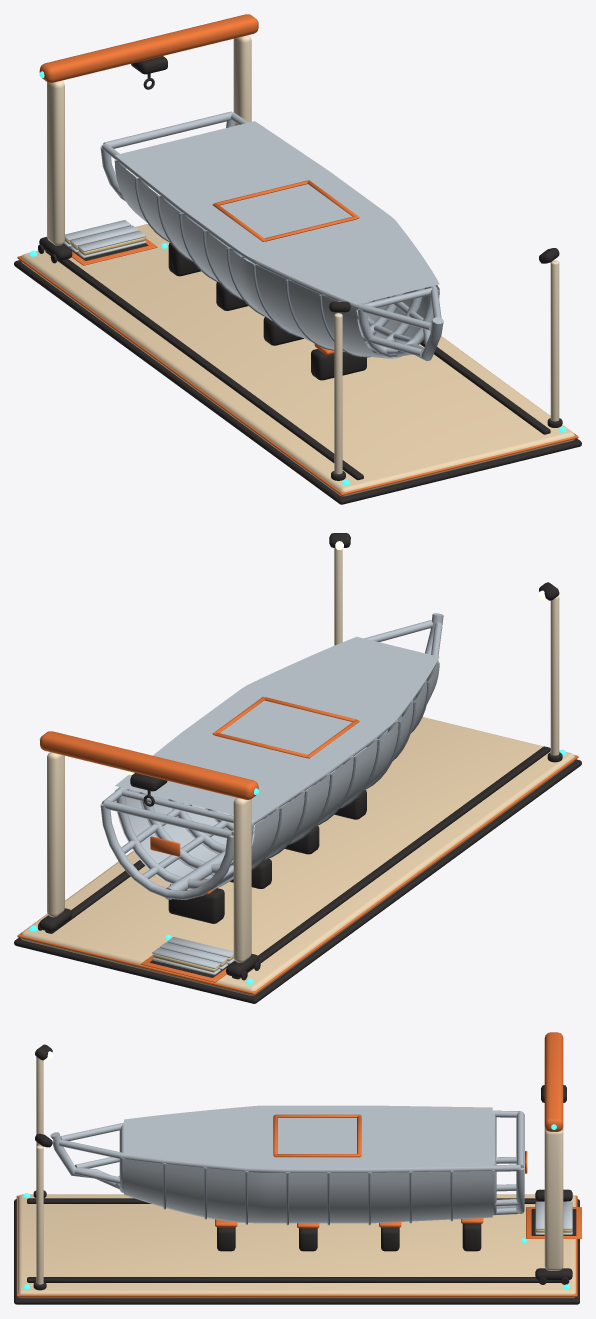
The model's file is hull-3.glb.
3 renders of one model, top to bottom at view 1: azimuth 30°, elevation 25°; view 2: azimuth 150°, elevation 25°; view 3: azimuth 270°, elevation 25°, orthographic. The views are drawn at different scales.
Parts seen in each view (by area): view 1: Cube.001, skin, Cube, Cube.002, pipe, Cube.021, pipe.030, Cube.026; view 2: Cube.001, skin, Cube, pipe, Cube.002, Cube.021, pipe.030, Cube.026; view 3: Cube.001, skin, Cube, pipe, Cube.002, Cube.021, pipe.030, Cube.026.
Boxes of the visible parts, box(x1,y1,x2,y2) form: Cube.001: box(21, 224, 574, 496); skin: box(114, 121, 439, 358); Cube: box(14, 56, 581, 504); Cube.002: box(17, 14, 578, 495); pipe: box(100, 111, 443, 360); Cube.021: box(47, 35, 559, 474); pipe.030: box(135, 177, 425, 357); Cube.026: box(64, 220, 146, 258); Cube.001: box(21, 717, 574, 995); skin: box(114, 636, 439, 889); Cube: box(14, 533, 581, 1003); pipe: box(100, 613, 443, 899); Cube.002: box(17, 697, 578, 994); Cube.021: box(47, 548, 559, 962); pipe.030: box(138, 681, 429, 875); Cube.026: box(152, 937, 234, 975); Cube.001: box(18, 1194, 575, 1298); skin: box(124, 1105, 492, 1223); Cube: box(14, 1044, 579, 1304); pipe: box(50, 1110, 524, 1215); Cube.002: box(16, 1032, 581, 1296); Cube.021: box(36, 1057, 563, 1284); pipe.030: box(163, 1163, 452, 1225); Cube.026: box(535, 1201, 572, 1234).
Size of the model in its own units: 1.3 by 1.06 by 3.05.
